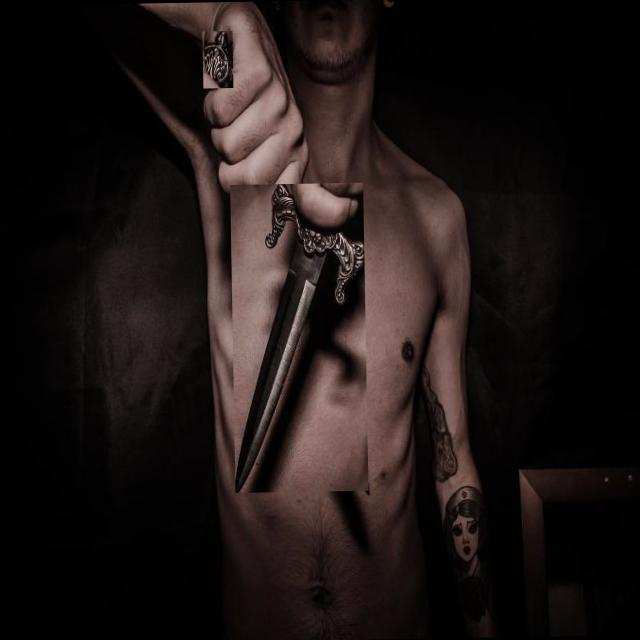Knife: (235, 184, 364, 493), (203, 32, 233, 88)
